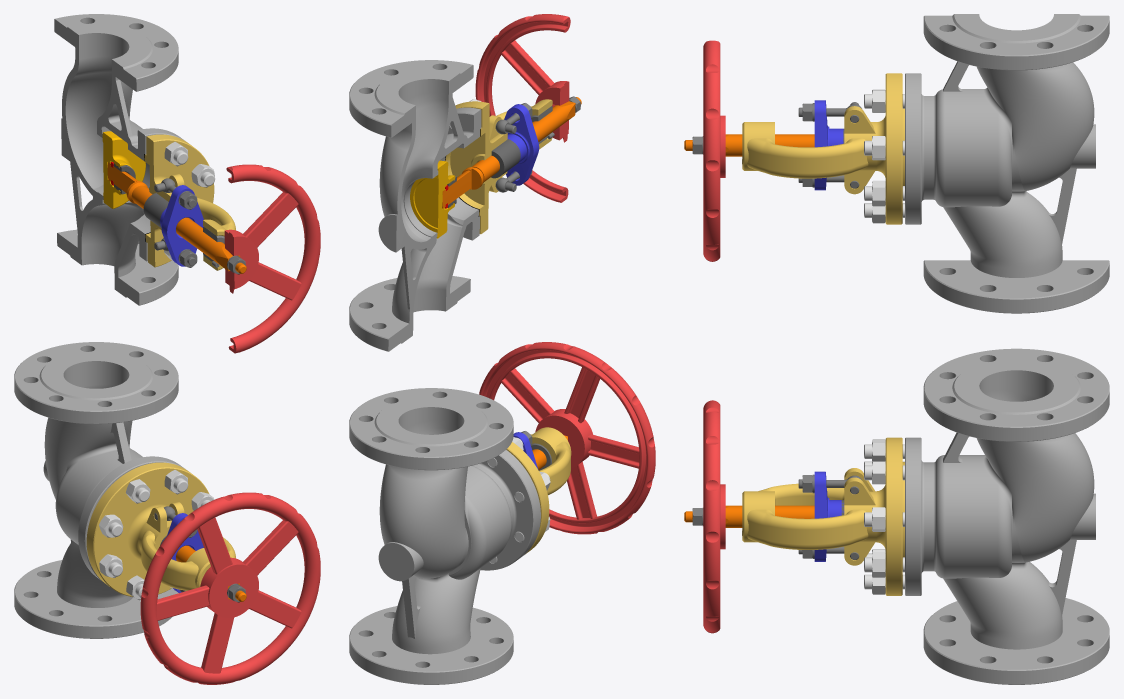
3 renders of one model, left to right at view 1: azimuth 30°, elevation 25°; view 2: azimuth 150°, elevation 25°; view 3: azimuth 270°, elevation 25°, orthographic. The views are drawn at different scales.
Visible parts, largest first — view 1: 80J41H-16C-01阀体, 80J41H-16C-01阀体_3, 手轮, 80J41H-16C-06阀盖, 手轮_3, 80J41H-16C-06阀盖_3, 80J41H-16C-05阀杆_3, 80J41H-16C-02阀瓣_3, 80J41H-16C-08填料压盖_3, 80J41H-16C-08填料压盖; view 2: 80J41H-16C-01阀体, 80J41H-16C-01阀体_3, 手轮, 手轮_3, 80J41H-16C-06阀盖_3, 80J41H-16C-06阀盖, 80J41H-16C-05阀杆_3, 80J41H-16C-02阀瓣_3, 80J41H-16C-08填料压盖_3; view 3: 80J41H-16C-01阀体, 80J41H-16C-01阀体_3, 80J41H-16C-06阀盖, 80J41H-16C-06阀盖_3, 手轮, 手轮_3, 80J41H-16C-08填料压盖_3, 80J41H-16C-08填料压盖, 80J41H-16C-05阀杆, 80J41H-16C-05阀杆_3.
Part boxes in pixels (<box>): 80J41H-16C-01阀体: <box>14,342,184,638</box>; 80J41H-16C-01阀体_3: <box>54,14,184,305</box>; 手轮: <box>140,492,320,684</box>; 80J41H-16C-06阀盖: <box>86,462,235,596</box>; 手轮_3: <box>224,164,320,353</box>; 80J41H-16C-06阀盖_3: <box>144,134,235,270</box>; 80J41H-16C-05阀杆_3: <box>107,162,246,273</box>; 80J41H-16C-02阀瓣_3: <box>102,131,145,208</box>; 80J41H-16C-08填料压盖_3: <box>160,185,203,266</box>; 80J41H-16C-08填料压盖: <box>162,513,203,592</box>; 80J41H-16C-01阀体: <box>349,388,540,684</box>; 80J41H-16C-01阀体_3: <box>349,60,481,351</box>; 手轮: <box>479,342,655,534</box>; 手轮_3: <box>475,14,570,202</box>; 80J41H-16C-06阀盖_3: <box>445,99,552,234</box>; 80J41H-16C-06阀盖: <box>506,427,571,554</box>; 80J41H-16C-05阀杆_3: <box>442,97,581,208</box>; 80J41H-16C-02阀瓣_3: <box>410,160,455,238</box>; 80J41H-16C-08填料压盖_3: <box>504,104,539,185</box>; 80J41H-16C-01阀体: <box>905,348,1109,684</box>; 80J41H-16C-01阀体_3: <box>905,14,1109,313</box>; 80J41H-16C-06阀盖: <box>742,437,904,595</box>; 80J41H-16C-06阀盖_3: <box>742,73,904,224</box>; 手轮: <box>703,400,725,633</box>; 手轮_3: <box>703,40,725,261</box>; 80J41H-16C-08填料压盖_3: <box>814,100,843,190</box>; 80J41H-16C-08填料压盖: <box>814,471,843,561</box>; 80J41H-16C-05阀杆: <box>684,505,814,527</box>; 80J41H-16C-05阀杆_3: <box>684,134,814,156</box>.
Bounding box in the file's own units: 250 × 750 × 457.
